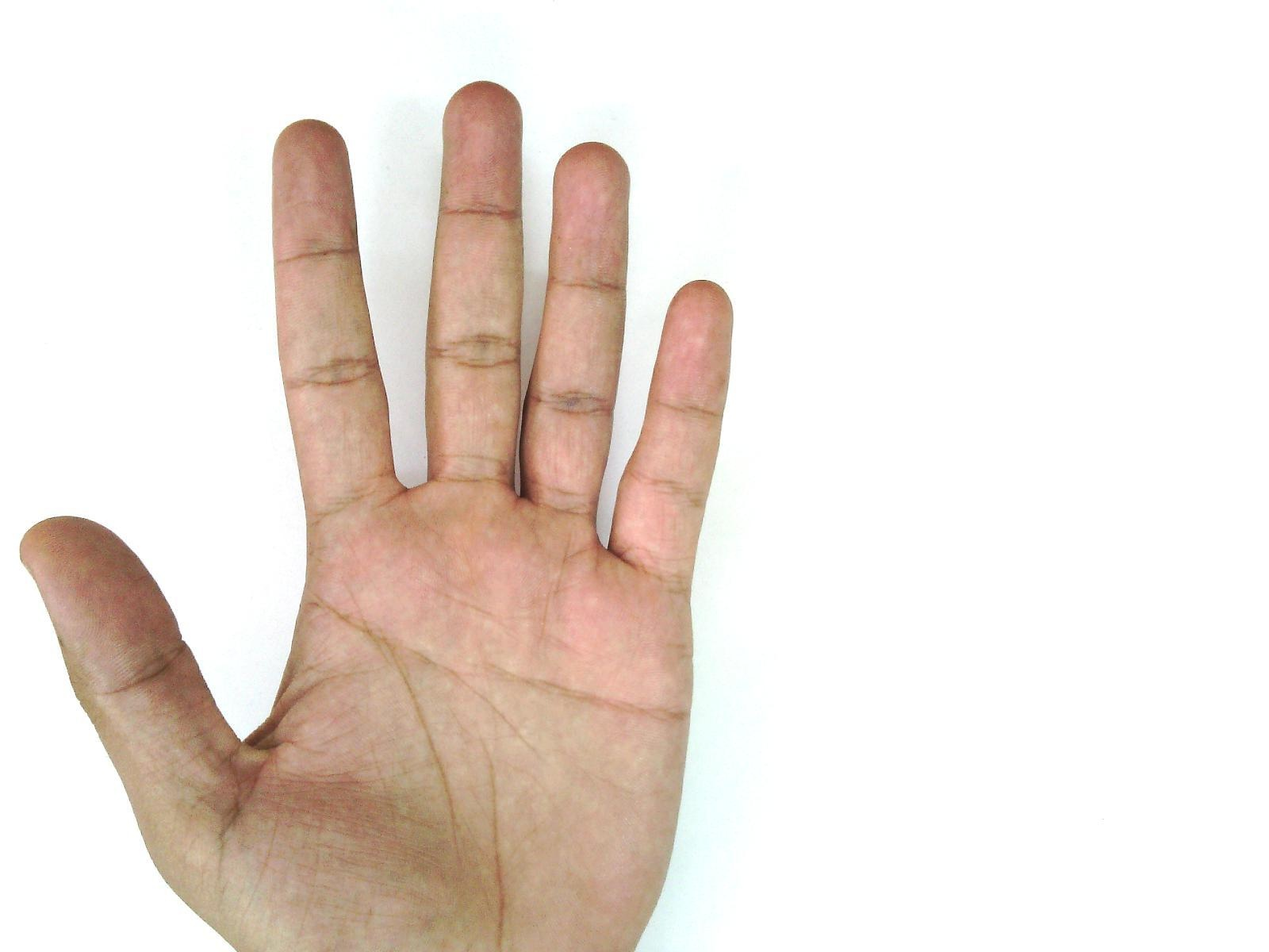open_palm: (19, 79, 738, 951)
